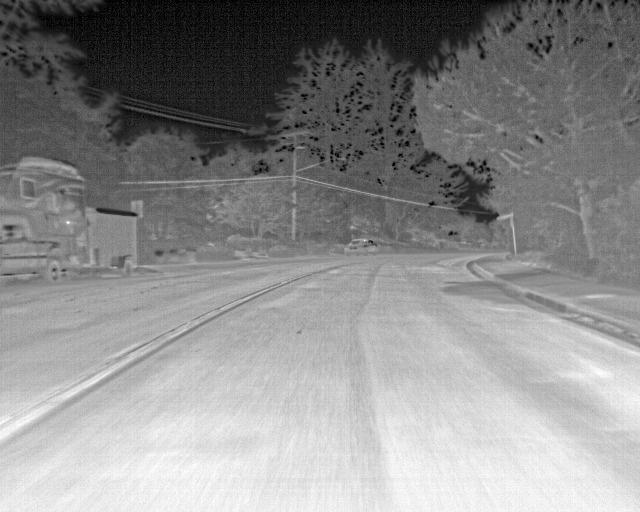car: (345, 237, 380, 257)
